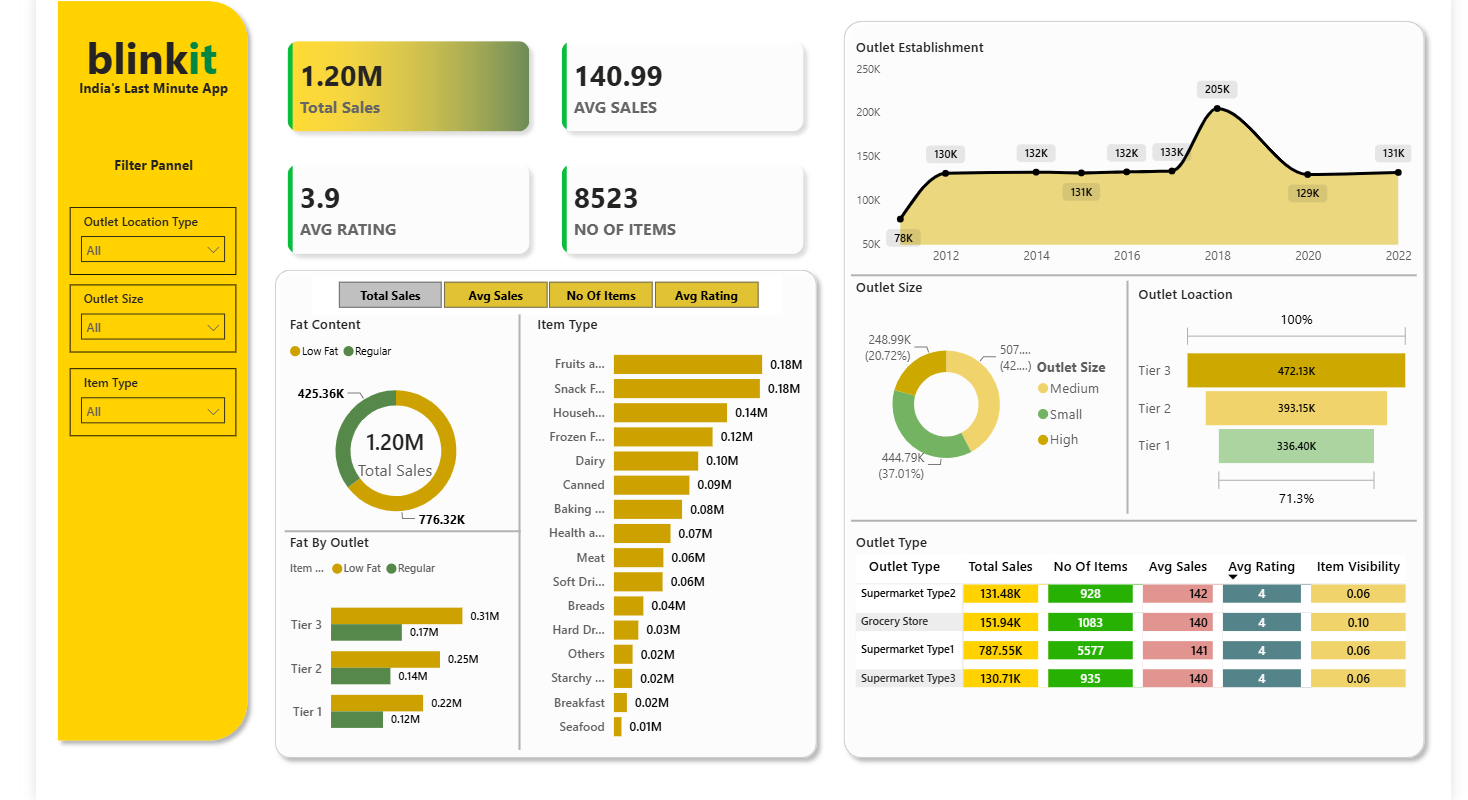

This screenshot's page, from the dashboard's own definition file:
{"tool":"powerbi","page":{"name":"Page 1","canvas":[1400,800],"ordinal":0},"visuals":[{"type":"shape","box":[12.3,0,205.9,749.8],"z":0},{"type":"textbox","box":[32.7,30,165,68.2],"z":1000},{"type":"textbox","box":[13.6,80.4,205.9,35.4],"z":2000},{"type":"cardVisual","fields":{"Data":["BlinkIT Grocery Data.Total Sales","BlinkIT Grocery Data.Avg Sales","BlinkIT Grocery Data.Avg Rating","BlinkIT Grocery Data.No Of Items"]},"box":[219.8,19.4,569.5,269.6],"z":3000},{"type":"shape","box":[227.6,266.3,554,501],"z":4000},{"type":"donutChart","title":"Fat Content","fields":{"Y":["BlinkIT Grocery Data.Total Sales"],"Category":["BlinkIT Grocery Data.Item Fat Content"]},"box":[246.2,319.2,220.4,224.7],"z":5000},{"type":"slicer","fields":{"Values":["Metrices2.Metrices2"]},"box":[273.4,279.1,465.2,40.1],"z":6000},{"type":"cardVisual","fields":{"Data":["BlinkIT Grocery Data.Total Sales"]},"box":[283.4,410.8,144.6,91.6],"z":7000},{"type":"clusteredBarChart","title":"Fat By Outlet","fields":{"Y":["BlinkIT Grocery Data.Total Sales"],"Category":["BlinkIT Grocery Data.Outlet Location Type"],"Series":["BlinkIT Grocery Data.Item Fat Content"]},"box":[246.2,533.9,220.4,217.6],"z":8000},{"type":"shape","box":[246.2,506.7,233.3,53],"z":9000},{"type":"shape","box":[466.7,319.2,24.3,430.9],"z":10000},{"type":"barChart","title":"Item Type","fields":{"Y":["BlinkIT Grocery Data.Total Sales"],"Category":["BlinkIT Grocery Data.Item Type"]},"box":[491,319.2,273.4,432.3],"z":11000},{"type":"shape","box":[790.2,20,592.6,747.2],"z":12000},{"type":"lineChart","title":"Outlet Establishment","fields":{"Y":["BlinkIT Grocery Data.Total Sales"],"Category":["BlinkIT Grocery Data.Outlet Establishment Year"]},"box":[805.9,44.4,559.7,234.8],"z":13000},{"type":"shape","box":[805.9,260.5,559.7,38.7],"z":14000},{"type":"donutChart","title":"Outlet Size","fields":{"Category":["BlinkIT Grocery Data.Outlet Size"],"Y":["BlinkIT Grocery Data.Total Sales"]},"box":[805.9,282,274.8,234.8],"z":15000},{"type":"shape","box":[1073.6,286.3,12.9,230.5],"z":16000},{"type":"funnel","title":"Outlet Loaction","fields":{"Y":["Sum(BlinkIT Grocery Data.Sales)"],"Category":["BlinkIT Grocery Data.Outlet Location Type"]},"box":[1086.5,289.2,279.1,227.6],"z":17000},{"type":"pivotTable","title":"Outlet Type","fields":{"Values":["BlinkIT Grocery Data.Total Sales","BlinkIT Grocery Data.No Of Items","BlinkIT Grocery Data.Avg Sales","BlinkIT Grocery Data.Avg Rating","Avg(BlinkIT Grocery Data.Item Visibility)"],"Rows":["BlinkIT Grocery Data.Outlet Type"]},"box":[805.9,533.9,559.7,203.3],"z":18000},{"type":"shape","box":[805.9,509.6,559.7,27.2],"z":19000},{"type":"slicer","fields":{"Values":["BlinkIT Grocery Data.Outlet Location Type"]},"box":[32.9,213.3,164.6,67.3],"z":20000},{"type":"slicer","fields":{"Values":["BlinkIT Grocery Data.Outlet Size"]},"box":[32.9,289.2,164.6,67.3],"z":21000},{"type":"slicer","fields":{"Values":["BlinkIT Grocery Data.Item Type"]},"box":[32.9,372.2,164.6,67.3],"z":22000},{"type":"textbox","box":[32.9,157,166.1,45.8],"z":23000}]}

Visuals, with their boxes on the page's 1400x800 design canvas (x1, y1, x2, y2). These are canvas units, not pixel positions in the 1468x800 screenshot, which may show the page scaled, cropped or inside an application window:
shape: l=12, t=0, r=218, b=750
textbox: l=33, t=30, r=198, b=98
textbox: l=14, t=80, r=220, b=116
cardVisual - BlinkIT Grocery Data.Total Sales x BlinkIT Grocery Data.Avg Sales: l=220, t=19, r=789, b=289
shape: l=228, t=266, r=782, b=767
"Fat Content" donutChart: l=246, t=319, r=467, b=544
slicer - Metrices2.Metrices2: l=273, t=279, r=739, b=319
cardVisual - BlinkIT Grocery Data.Total Sales: l=283, t=411, r=428, b=502
"Fat By Outlet" clusteredBarChart: l=246, t=534, r=467, b=752
shape: l=246, t=507, r=480, b=560
shape: l=467, t=319, r=491, b=750
"Item Type" barChart: l=491, t=319, r=764, b=752
shape: l=790, t=20, r=1383, b=767
"Outlet Establishment" lineChart: l=806, t=44, r=1366, b=279
shape: l=806, t=260, r=1366, b=299
"Outlet Size" donutChart: l=806, t=282, r=1081, b=517
shape: l=1074, t=286, r=1086, b=517
"Outlet Loaction" funnel: l=1086, t=289, r=1366, b=517
"Outlet Type" pivotTable: l=806, t=534, r=1366, b=737
shape: l=806, t=510, r=1366, b=537
slicer - BlinkIT Grocery Data.Outlet Location Type: l=33, t=213, r=198, b=281
slicer - BlinkIT Grocery Data.Outlet Size: l=33, t=289, r=198, b=356
slicer - BlinkIT Grocery Data.Item Type: l=33, t=372, r=198, b=440
textbox: l=33, t=157, r=199, b=203
